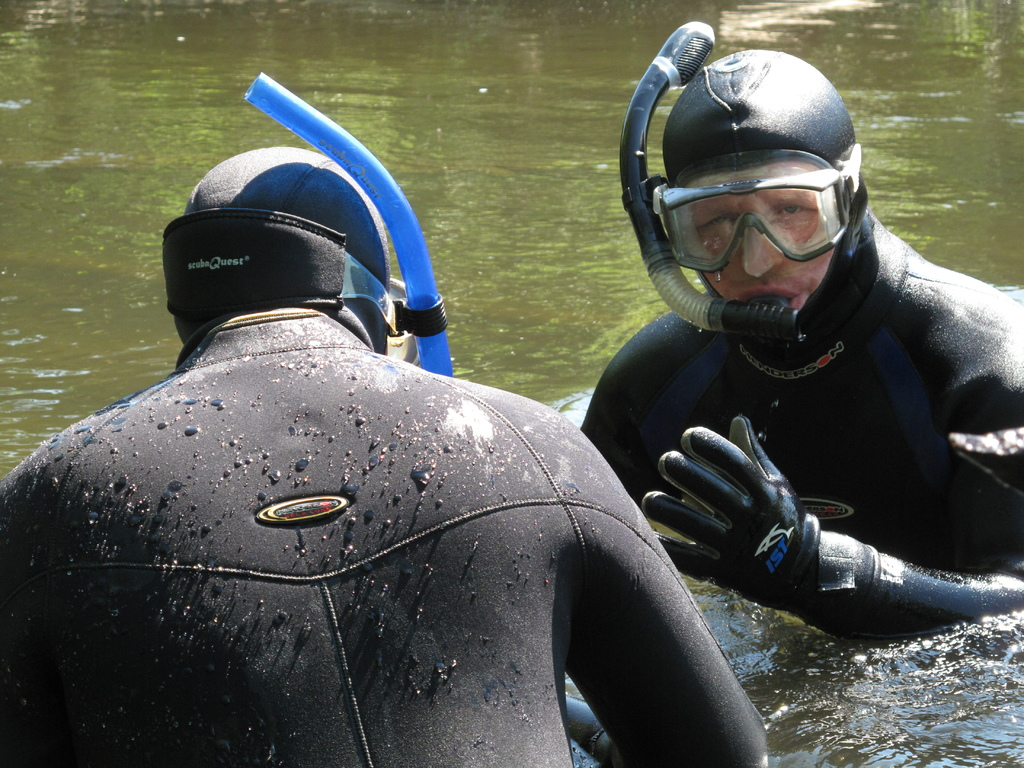Person: (0, 71, 768, 767), (580, 21, 1024, 640)
